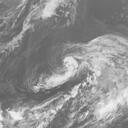cyclone: (53, 34, 114, 93)
